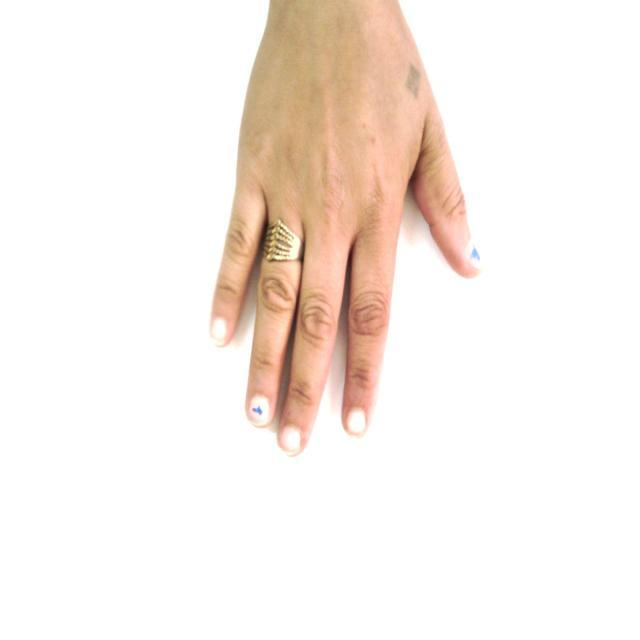Fingernail: (250, 395, 270, 426), (280, 426, 301, 454), (347, 409, 366, 435), (465, 241, 483, 268), (211, 319, 226, 344)
